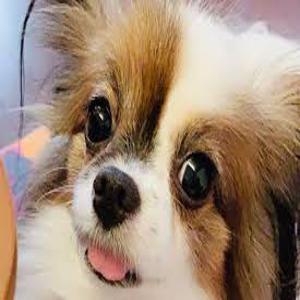yell: (25, 0, 300, 300)
